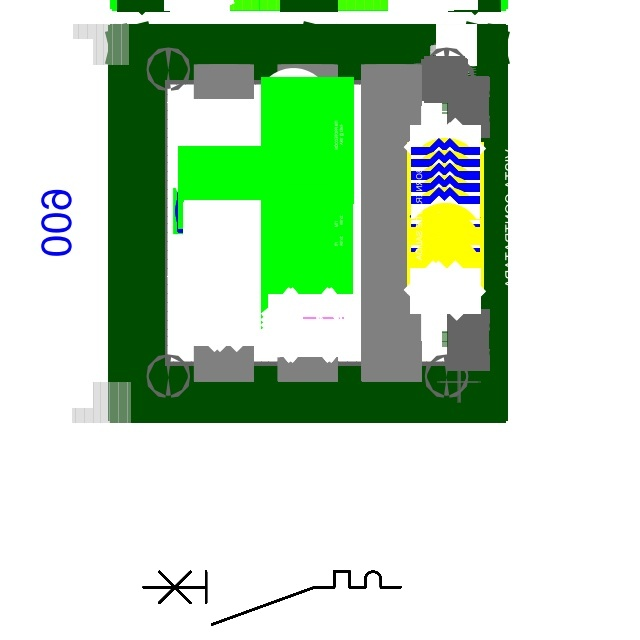interruptor_termomagnetico: (137, 565, 407, 631)
